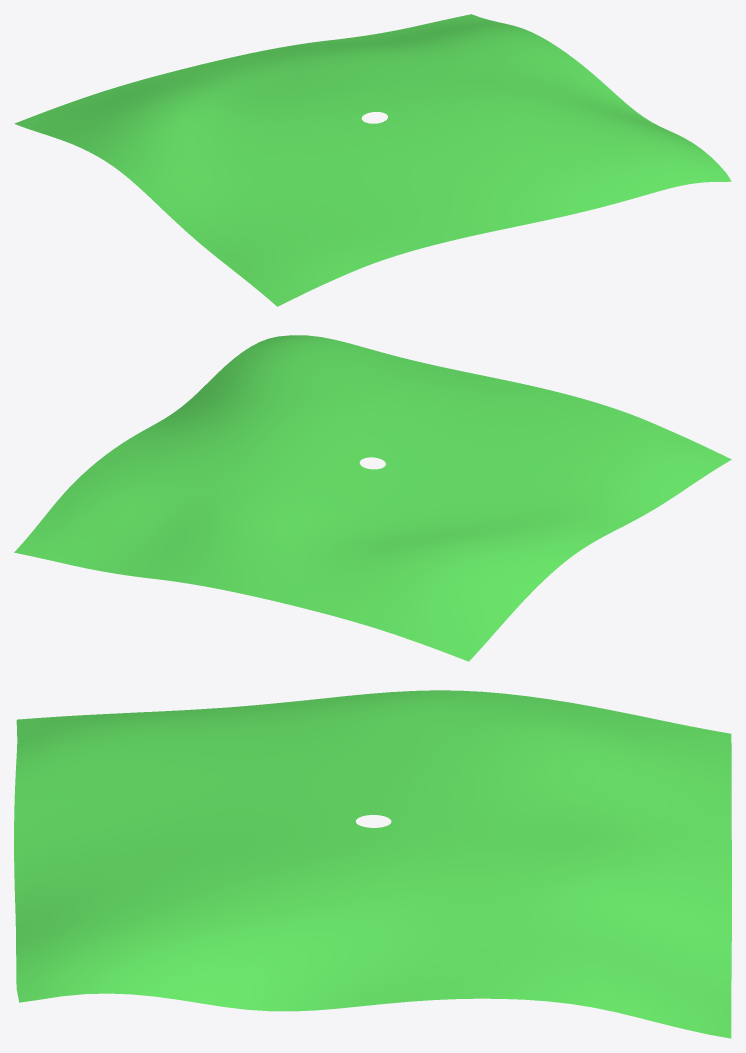
Rendered from GroundGrass.fbx.
3 views of the same model, one above another, from view 1: azimuth 30°, elevation 25°; view 2: azimuth 150°, elevation 25°; view 3: azimuth 270°, elevation 25° (orthographic). The views are drawn at different scales.
Visible parts, largest first — view 1: Plane; view 2: Plane; view 3: Plane.
Part boxes in pixels (bbox=[...]): Plane: bbox=[14, 14, 731, 306]; Plane: bbox=[14, 335, 731, 661]; Plane: bbox=[14, 690, 731, 1038].
Size of the model in its own units: 4037 by 450 by 4016.
